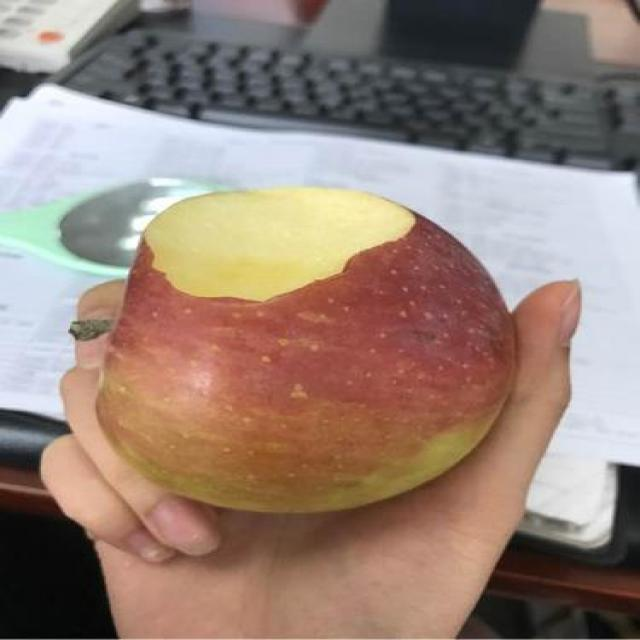Rotten: (88, 158, 514, 517)
